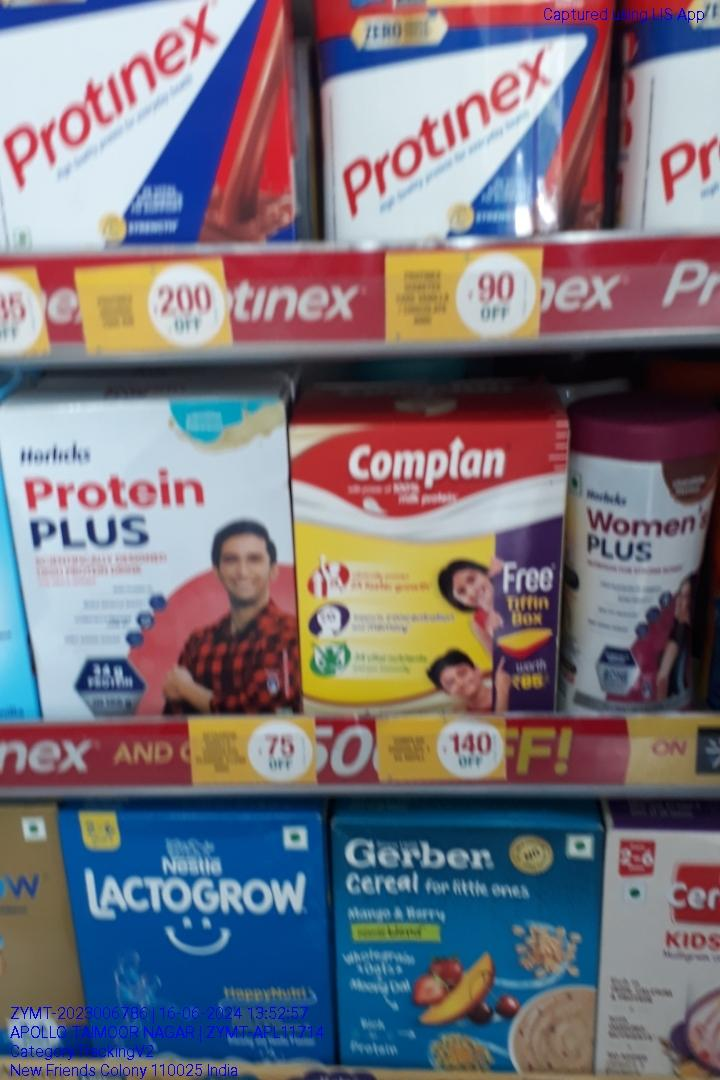COMPLAN_KESAR_BADAM_200_GMS_PACK: (298, 420, 557, 719)
